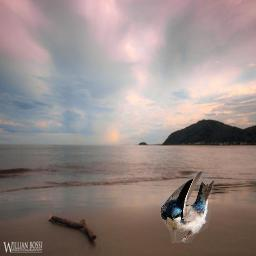Swallow: (160, 170, 214, 243)
